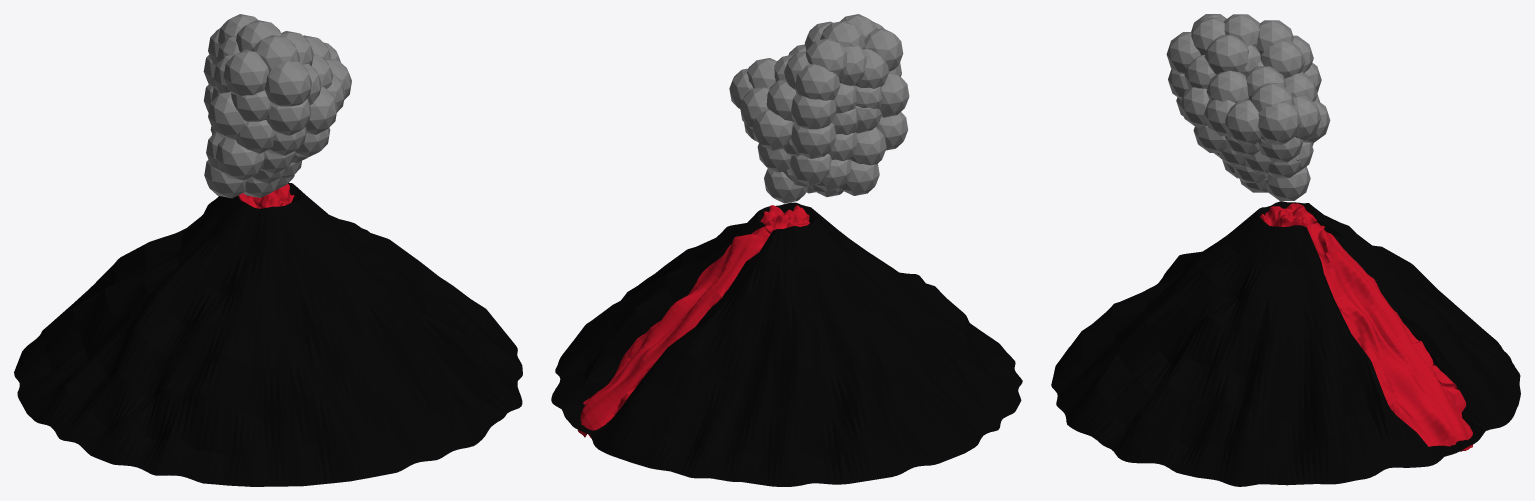
File: Volcano.fbx
3 views of the same model, side by side, from view 1: azimuth 30°, elevation 25°; view 2: azimuth 150°, elevation 25°; view 3: azimuth 270°, elevation 25° (orthographic). The views are drawn at different scales.
Visible parts, largest first — view 1: Cône, Icosphère.031, Icosphère.072, Icosphère.073, Icosphère.066, Icosphère.030, Icosphère.032, Icosphère.044, Icosphère.070, Icosphère.071, Icosphère.069, Icosphère.033 (+4 smaller); view 2: Cône, Cube, Icosphère.035, Icosphère.036, Icosphère.057, Icosphère.037, Icosphère.034, Icosphère.072, Icosphère.058, Icosphère.066, Icosphère.068, Icosphère.005 (+17 smaller); view 3: Cône, Cube, Icosphère.012, Icosphère.040, Icosphère.047, Icosphère.042, Icosphère.045, Icosphère.005, Icosphère.031, Icosphère.044, Icosphère.033, Icosphère.056 (+10 smaller).
Boxes of the visible parts, box(x1,y1,x2,y2) form: Cône: box(14, 183, 522, 486); Icosphère.031: box(264, 61, 311, 106); Icosphère.072: box(223, 49, 268, 96); Icosphère.073: box(215, 138, 264, 180); Icosphère.066: box(208, 92, 246, 139); Icosphère.030: box(266, 98, 311, 135); Icosphère.032: box(252, 35, 299, 70); Icosphère.044: box(305, 86, 337, 134); Icosphère.070: box(235, 120, 274, 153); Icosphère.071: box(231, 90, 271, 121); Icosphère.069: box(204, 160, 246, 198); Icosphère.033: box(236, 20, 281, 52); Cône: box(551, 202, 1022, 486); Cube: box(577, 226, 770, 438); Icosphère.035: box(795, 64, 840, 100); Icosphère.036: box(791, 94, 836, 129); Icosphère.057: box(752, 109, 794, 150); Icosphère.037: box(791, 122, 836, 158); Icosphère.034: box(806, 38, 847, 79); Icosphère.072: box(864, 28, 903, 71); Icosphère.058: box(790, 153, 831, 185); Icosphère.066: box(880, 73, 909, 117); Icosphère.068: box(850, 127, 886, 165); Icosphère.005: box(764, 168, 807, 203); Cône: box(1051, 201, 1520, 486); Cube: box(1306, 223, 1472, 451); Icosphère.012: box(1258, 102, 1301, 143); Icosphère.040: box(1204, 34, 1248, 74); Icosphère.047: box(1225, 99, 1260, 144); Icosphère.042: box(1261, 41, 1304, 78); Icosphère.045: box(1206, 70, 1248, 102); Icosphère.005: box(1266, 166, 1310, 200); Icosphère.031: box(1166, 32, 1200, 73); Icosphère.044: box(1180, 87, 1209, 127); Icosphère.033: box(1224, 14, 1259, 46); Icosphère.056: box(1292, 95, 1320, 140).
Size of the model in its own units: 498 by 427 by 498.
